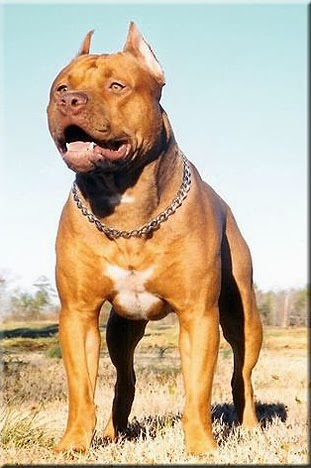am_pit_bull_terrier: (45, 20, 263, 459)
